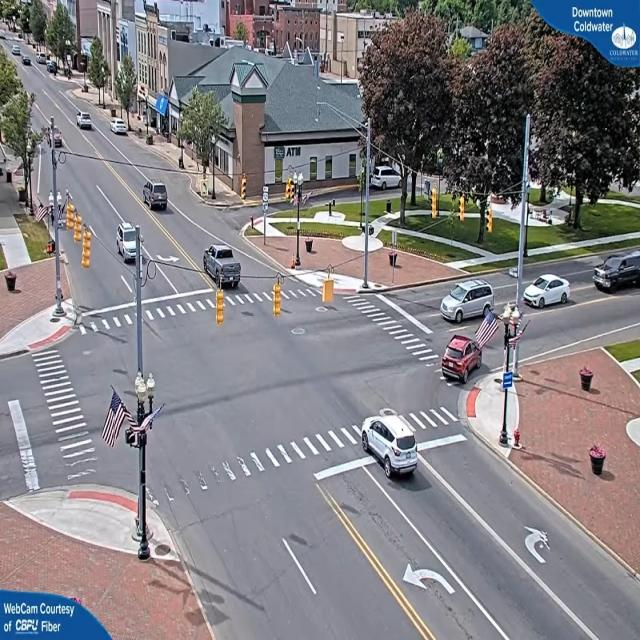car: (363, 414, 421, 479), (439, 278, 492, 325), (592, 252, 640, 295), (441, 334, 482, 384), (524, 272, 570, 309), (204, 245, 242, 288), (116, 222, 142, 262), (143, 181, 172, 212), (112, 120, 130, 137), (78, 113, 94, 130), (12, 46, 23, 58)
